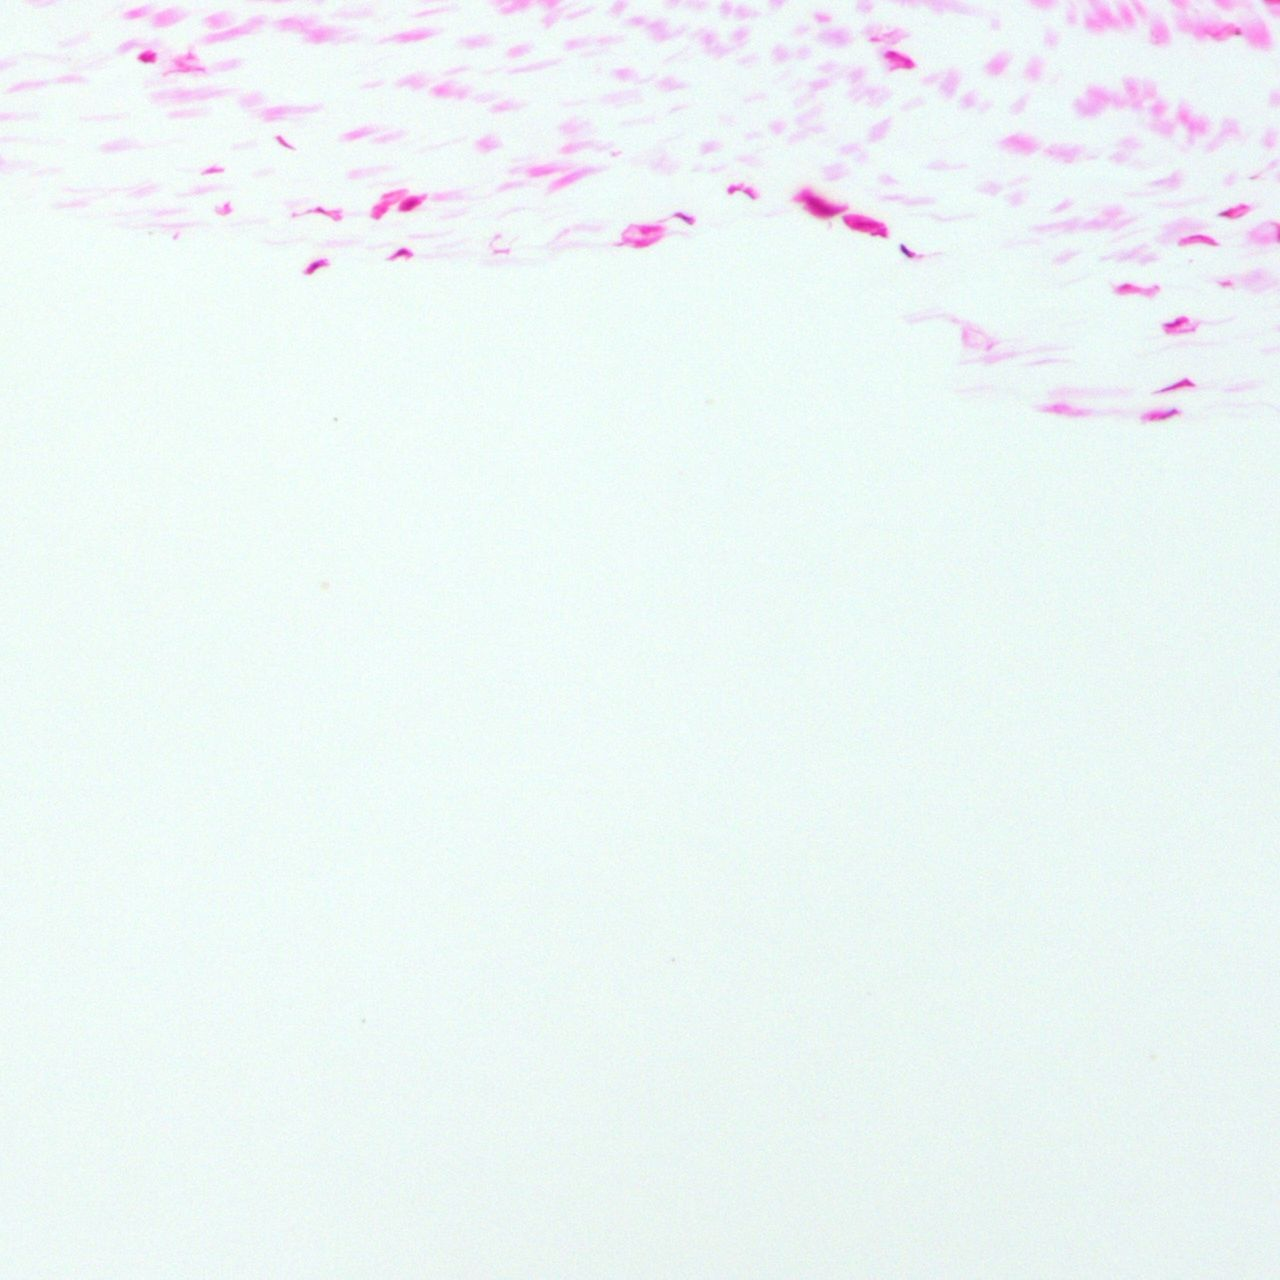nucleus-FG: (792, 188, 845, 224), (842, 207, 893, 240), (881, 47, 917, 74), (1159, 374, 1197, 399), (1142, 403, 1182, 425), (1160, 313, 1194, 338), (1218, 200, 1252, 224), (308, 203, 343, 223), (384, 244, 415, 266), (726, 181, 760, 200), (397, 192, 425, 215), (302, 256, 329, 275), (622, 223, 666, 234), (619, 236, 658, 248), (1177, 234, 1219, 246), (368, 198, 389, 222), (274, 132, 297, 152), (673, 210, 695, 226), (897, 243, 915, 260), (1111, 282, 1136, 295), (137, 49, 156, 63), (382, 188, 404, 198)
